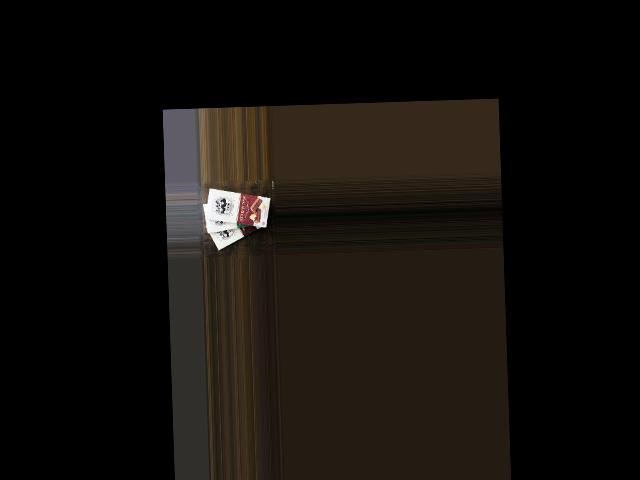chocolate: (203, 207, 271, 251)
